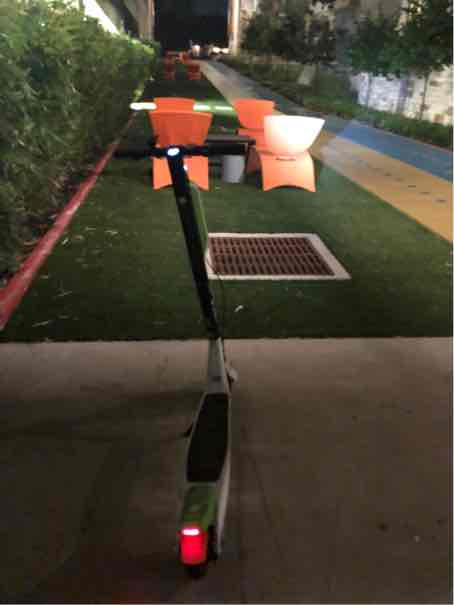scooter: (104, 138, 267, 575)
